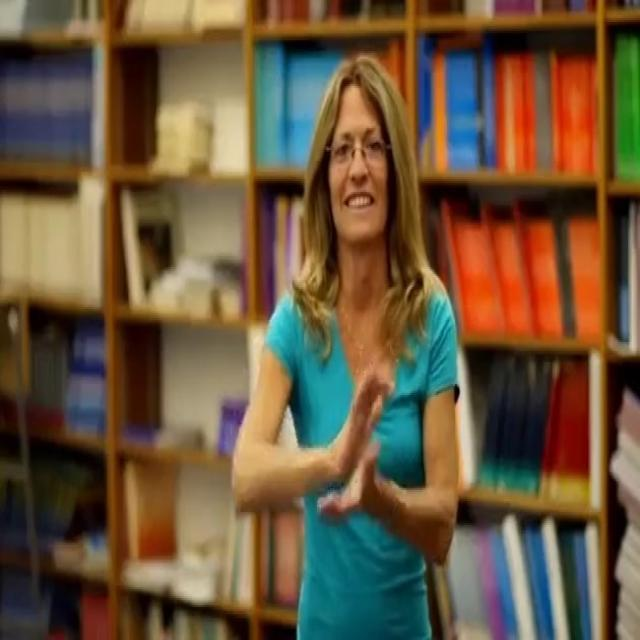cheese: (314, 362, 402, 534)
